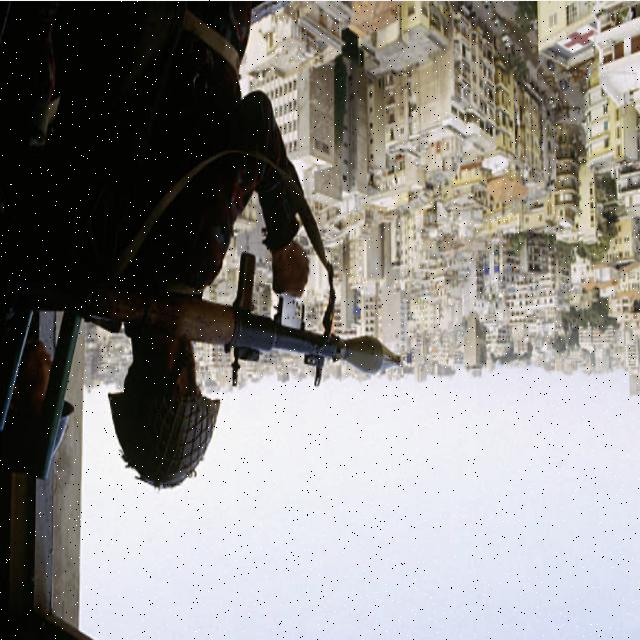bazooka: (15, 236, 408, 386)
